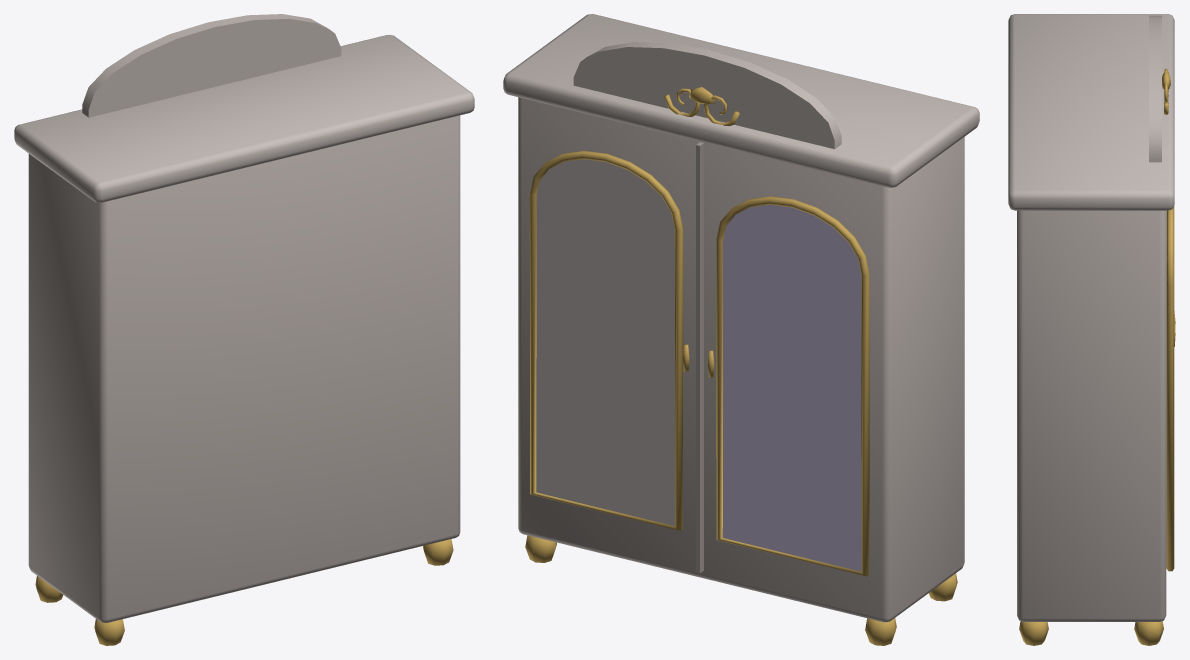
File: wardrobe_tall.glb
3 renders of one model, left to right at view 1: azimuth 30°, elevation 25°; view 2: azimuth 150°, elevation 25°; view 3: azimuth 270°, elevation 25°, orthographic. The views are drawn at different scales.
Parts seen in each view (by area): view 1: wardrobe_tall; view 2: wardrobe_tall; view 3: wardrobe_tall.
Part boxes in pixels (bbox=[...]): wardrobe_tall: bbox=[14, 14, 474, 645]; wardrobe_tall: bbox=[503, 14, 979, 645]; wardrobe_tall: bbox=[1008, 14, 1175, 645].
Size of what is drawn, in the model's own units: 1.8 by 2.4 by 0.7.
